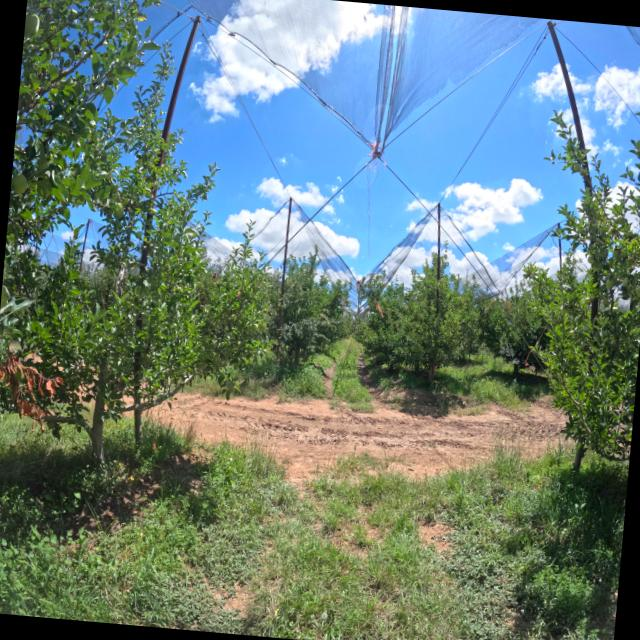-FireBlight-: (0, 350, 65, 437)
